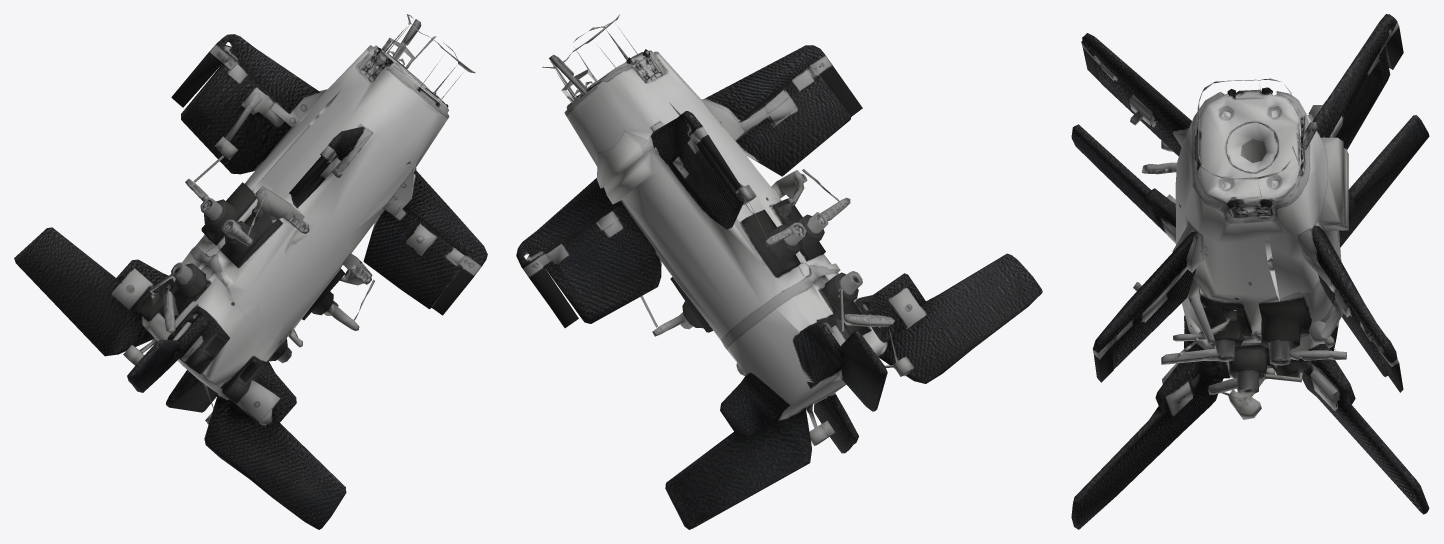
The model's file is dart.gltf.
3 views of the same model, side by side, from view 1: azimuth 30°, elevation 25°; view 2: azimuth 150°, elevation 25°; view 3: azimuth 270°, elevation 25° (orthographic). The views are drawn at different scales.
Visible parts, largest first — view 1: dart; view 2: dart; view 3: dart.
Part boxes in pixels (left/top/right/bottom): dart: left=14, top=14, right=487, bottom=529; dart: left=516, top=14, right=1042, bottom=529; dart: left=1071, top=14, right=1429, bottom=529.
Size of the model in its own units: 0.2436 by 0.2435 by 0.1421.
Materials: 1 (1 with a texture image).
